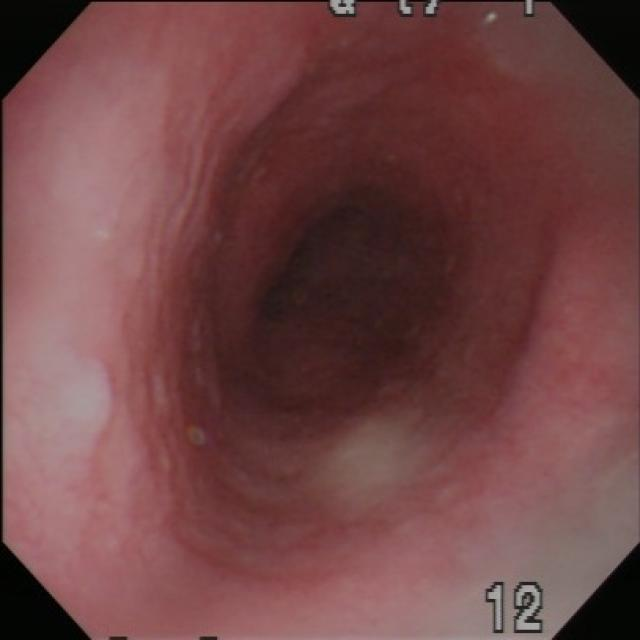E: (250, 187, 416, 369)
J: (40, 345, 141, 492), (327, 408, 435, 516)
S: (485, 581, 547, 636), (325, 3, 545, 18)
